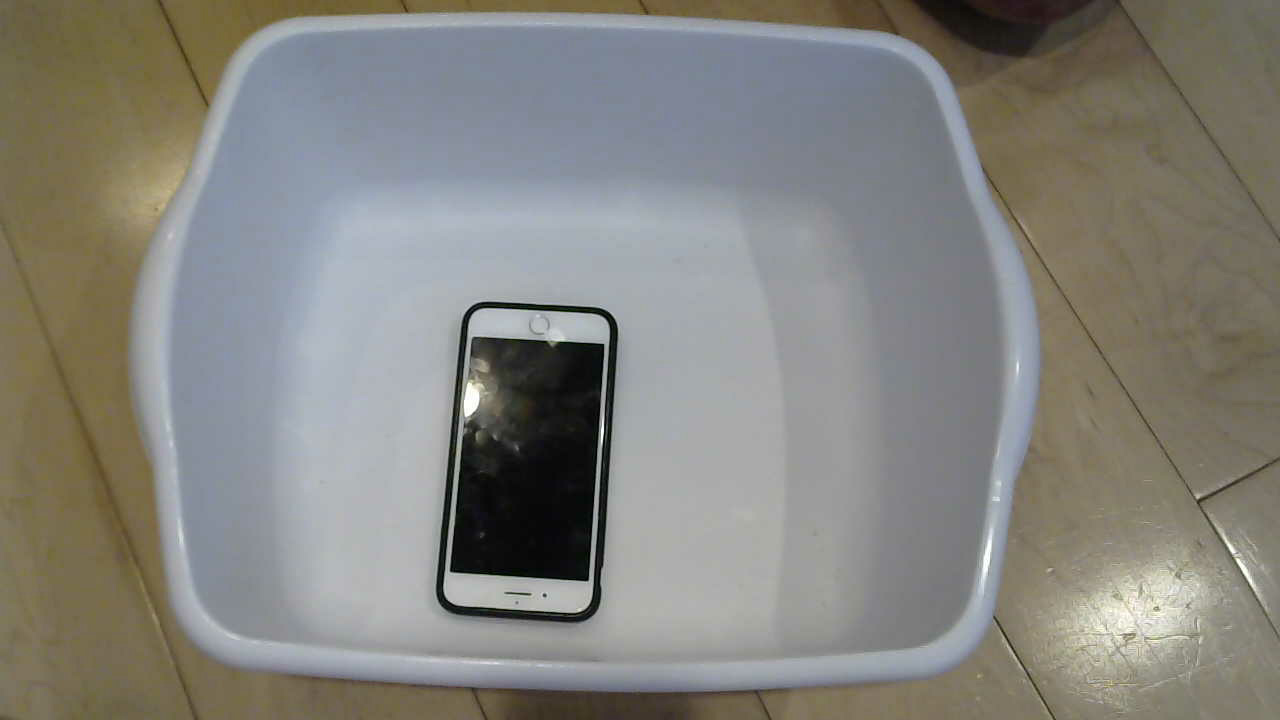phone: (432, 297, 639, 630)
